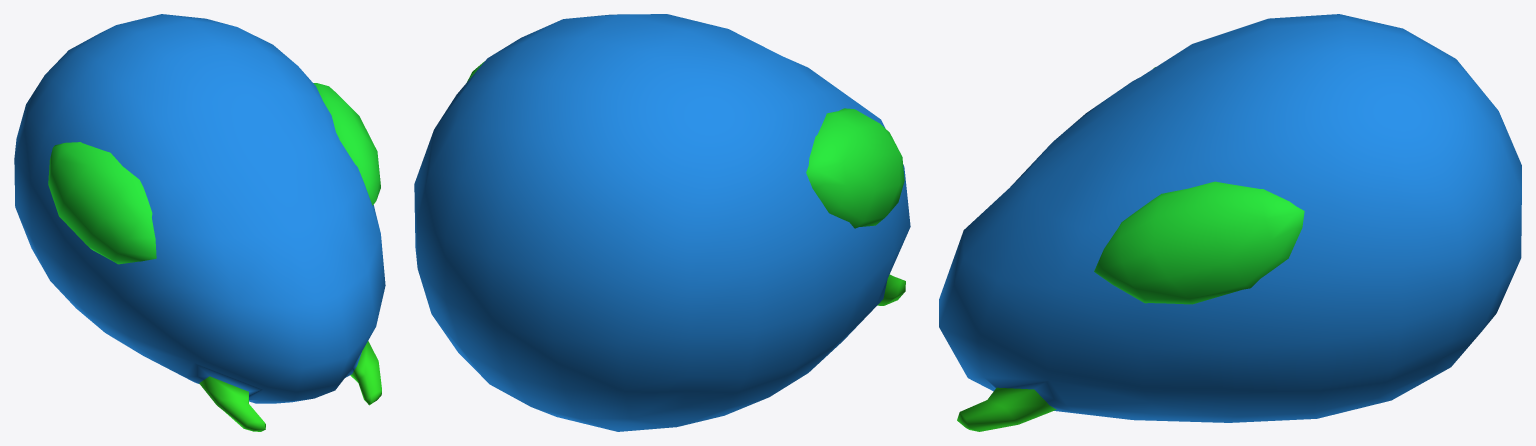
The model's file is cabeca.fbx.
3 views of the same model, side by side, from view 1: azimuth 30°, elevation 25°; view 2: azimuth 150°, elevation 25°; view 3: azimuth 270°, elevation 25° (orthographic). The views are drawn at different scales.
Parts seen in each view (by area): view 1: cabeca formiga; view 2: cabeca formiga; view 3: cabeca formiga.
Part boxes in pixels (<box>): cabeca formiga: <box>14,14,385,431</box>; cabeca formiga: <box>414,14,910,431</box>; cabeca formiga: <box>939,14,1521,431</box>.
Size of the model in its own units: 352 by 324 by 476.
